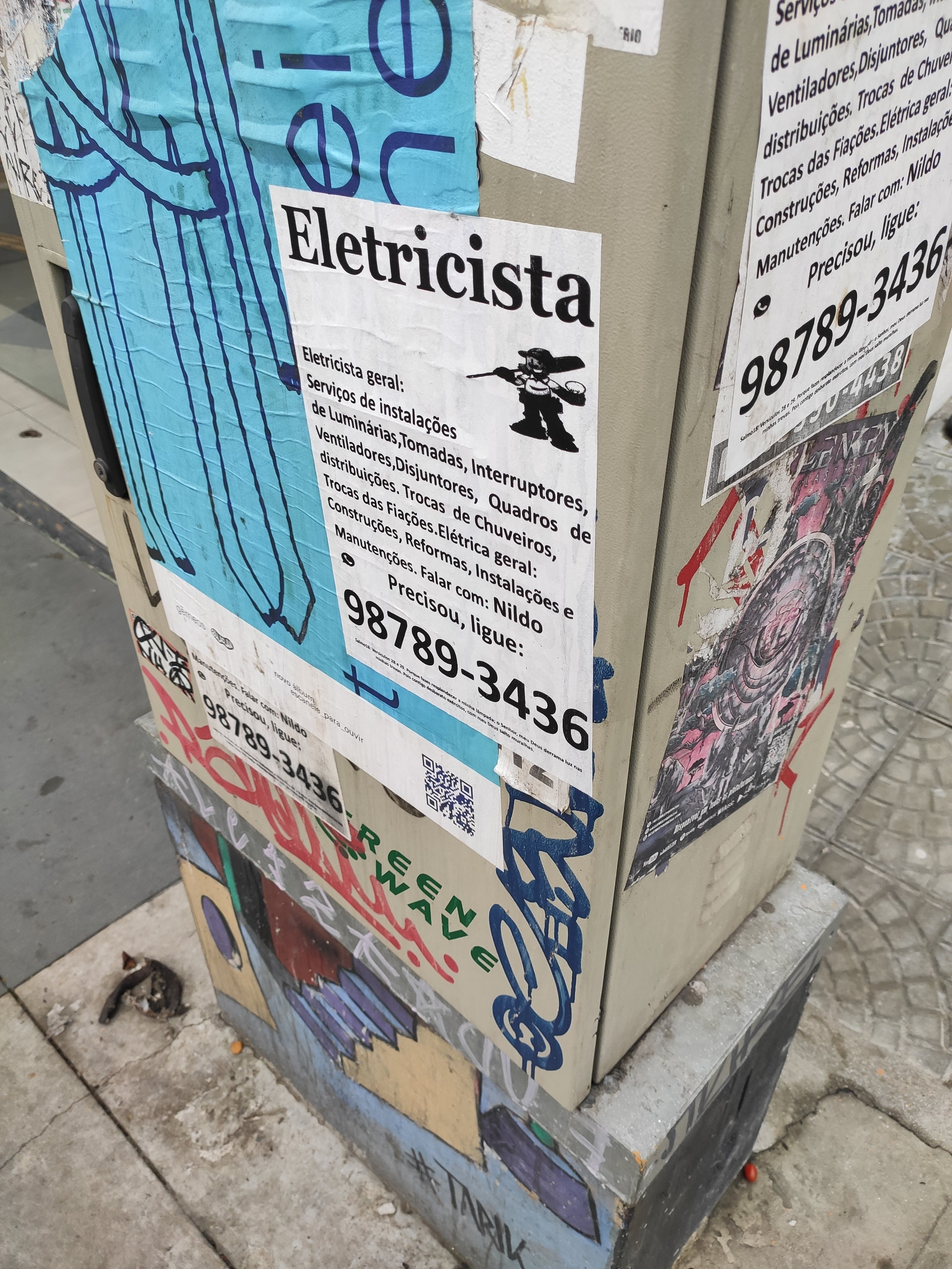QR-CODE: (422, 753, 475, 837)
